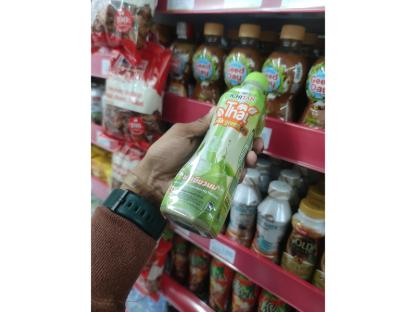Plastic Bottle: (156, 68, 276, 244), (257, 22, 305, 134), (223, 22, 256, 118), (190, 22, 224, 110), (163, 19, 195, 105)
